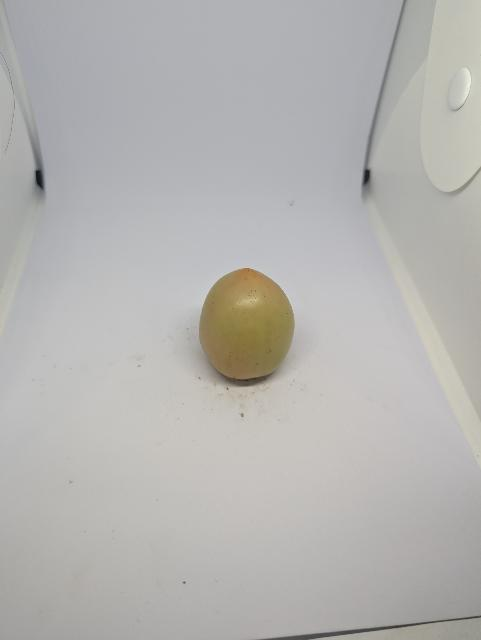breaker: (200, 268, 295, 380)
